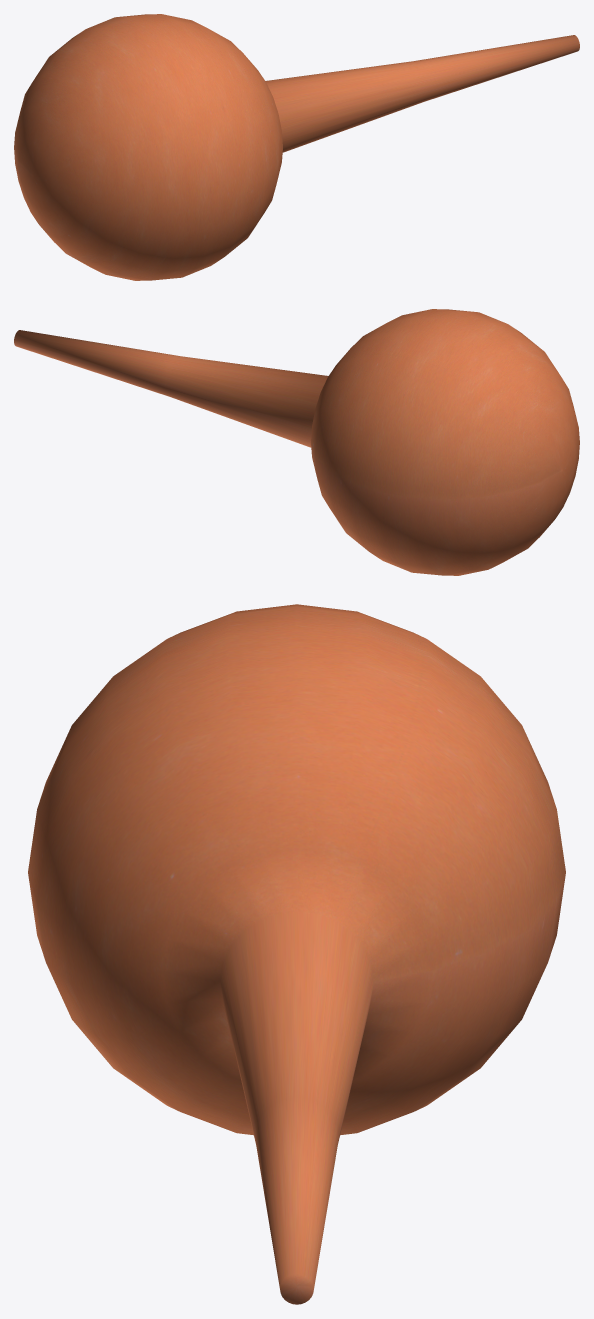
File: chemical_ Wash ears ball.FBX
3 views of the same model, one above another, from view 1: azimuth 30°, elevation 25°; view 2: azimuth 150°, elevation 25°; view 3: azimuth 270°, elevation 25° (orthographic). The views are drawn at different scales.
Visible parts, largest first — view 1: chemical_ Wash ears ball; view 2: chemical_ Wash ears ball; view 3: chemical_ Wash ears ball.
Boxes of the visible parts, x1=… form: chemical_ Wash ears ball: x1=14, y1=14, x2=579, y2=280; chemical_ Wash ears ball: x1=14, y1=309, x2=579, y2=575; chemical_ Wash ears ball: x1=28, y1=604, x2=565, y2=1304.
Size of the model in its own units: 14 by 6 by 6.
Materials: 1 (1 with a texture image).
